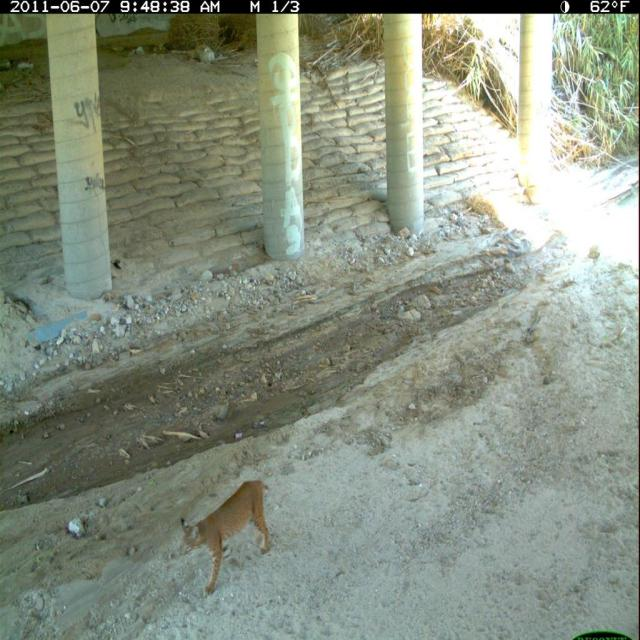bobcat: (176, 474, 274, 603)
